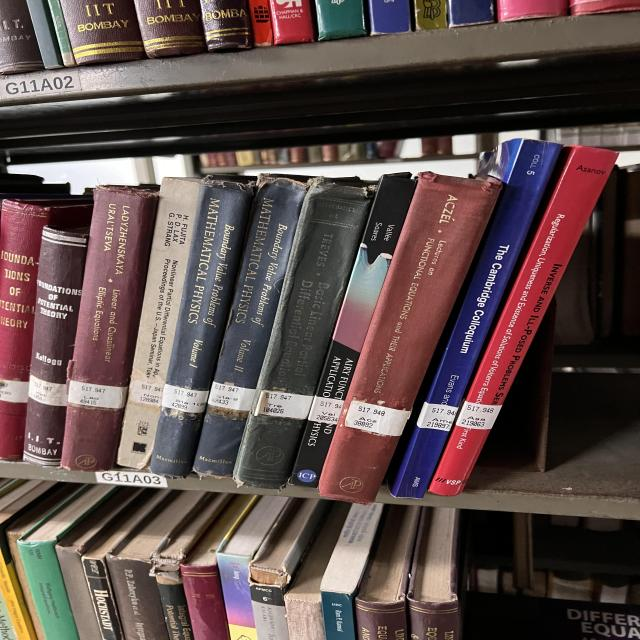Book: (428, 145, 615, 496), (392, 139, 562, 499), (318, 174, 502, 504), (233, 178, 373, 489), (290, 172, 417, 486), (193, 175, 310, 476), (150, 179, 255, 476), (60, 185, 158, 471), (117, 178, 200, 469), (0, 199, 92, 460), (23, 226, 88, 465)
Label: (345, 400, 410, 436), (68, 380, 128, 409), (255, 390, 313, 419), (208, 381, 255, 411), (455, 401, 502, 430), (162, 384, 208, 412), (28, 375, 68, 406), (417, 402, 458, 431), (308, 396, 343, 425), (128, 380, 163, 406), (0, 380, 28, 404)
